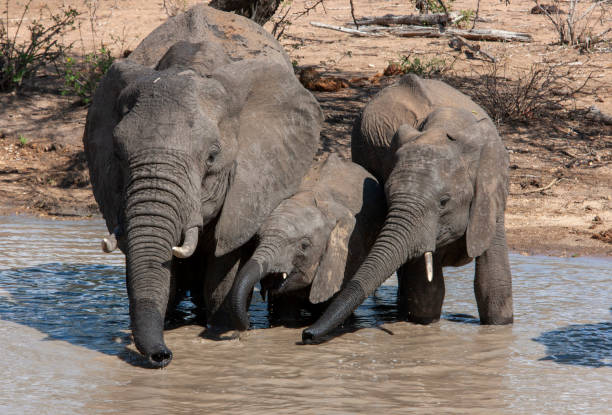africanelephant: (336, 127, 487, 278)
